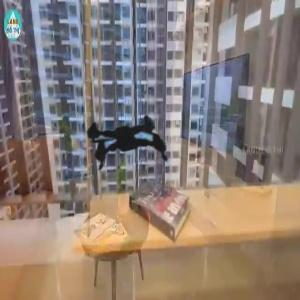drone: (8, 25, 241, 258)
